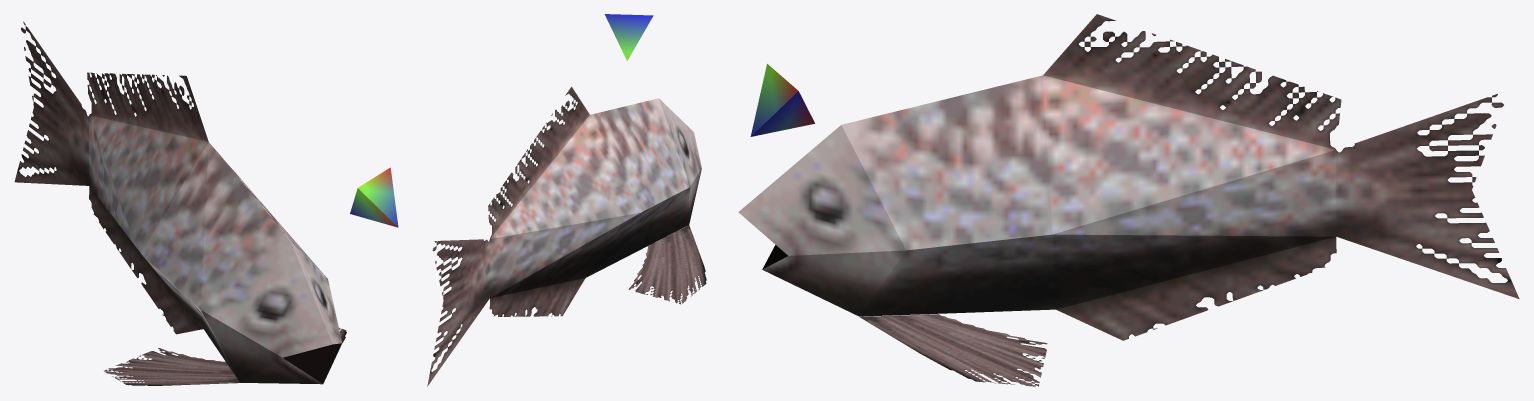
The model's file is fish.obj.
The picture shows the model from 3 angles, left to right: view 1: azimuth 30°, elevation 25°; view 2: azimuth 150°, elevation 25°; view 3: azimuth 270°, elevation 25°; orthographic projection. The views are drawn at different scales.
Parts seen in each view (by area): view 1: fish_fish.001; view 2: fish_fish.001; view 3: fish_fish.001.
Part boxes in pixels (box(x1,y1,x2,y2)): fish_fish.001: box(14, 21, 398, 385); fish_fish.001: box(427, 14, 706, 386); fish_fish.001: box(738, 14, 1519, 386).
Size of the model in its own units: 0.6947 by 0.7964 by 1.73.
Materials: 1 (1 with a texture image).
